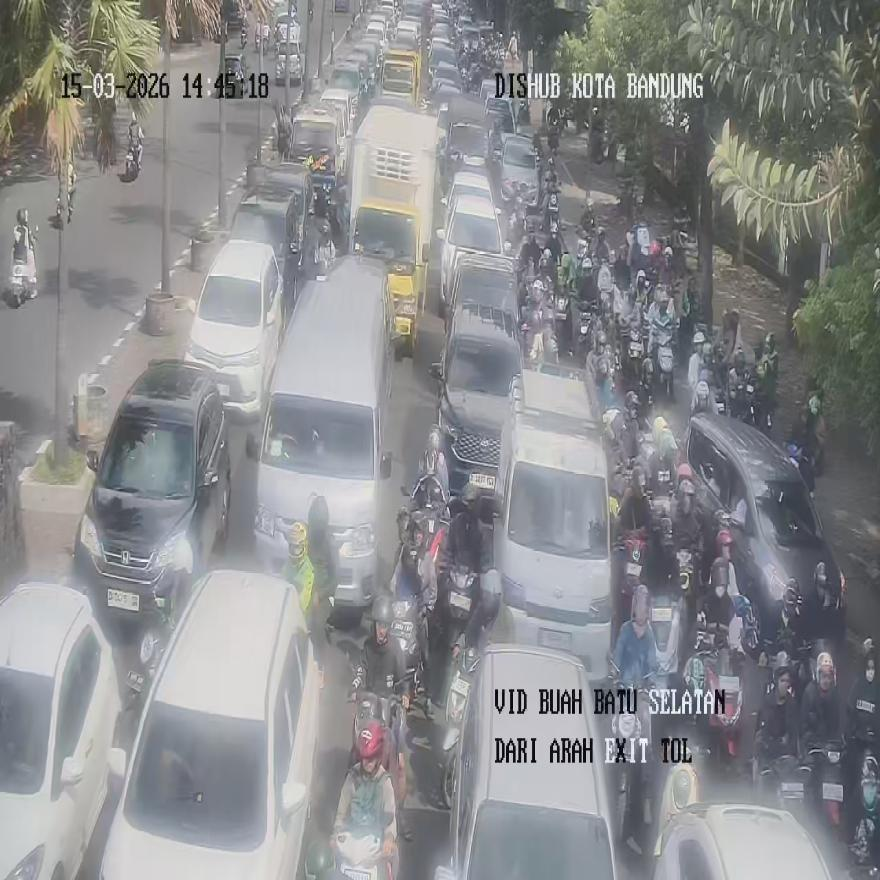Bis: (247, 257, 397, 616), (492, 364, 613, 678)
Mobil: (100, 572, 319, 879), (434, 643, 616, 879), (74, 359, 231, 629), (0, 582, 121, 879), (430, 299, 522, 495), (185, 240, 282, 418)
Motor: (684, 624, 743, 765), (122, 588, 173, 733), (440, 646, 480, 809), (612, 681, 651, 842), (654, 756, 700, 857), (399, 474, 449, 563), (707, 652, 743, 761), (350, 691, 400, 766), (651, 580, 684, 689), (756, 756, 811, 821), (808, 740, 844, 837), (390, 599, 424, 695), (336, 829, 393, 879), (442, 566, 477, 647), (618, 531, 647, 620), (9, 227, 38, 305), (649, 465, 675, 534), (732, 593, 759, 656), (786, 440, 815, 492), (845, 728, 876, 772), (625, 310, 644, 381), (676, 548, 698, 609), (656, 326, 674, 400), (575, 309, 596, 366), (315, 217, 334, 279), (9, 262, 36, 305), (627, 223, 651, 271), (528, 327, 558, 365), (670, 218, 689, 277), (753, 383, 774, 436), (126, 115, 142, 182), (740, 372, 759, 427), (728, 371, 747, 422), (638, 359, 654, 419), (507, 195, 525, 243), (596, 255, 614, 303), (555, 288, 570, 342), (617, 176, 637, 216), (547, 214, 564, 254), (66, 159, 76, 223), (126, 140, 141, 182), (580, 200, 596, 238), (548, 192, 560, 233), (845, 865, 879, 879), (255, 22, 270, 53), (711, 387, 727, 414), (548, 120, 561, 152), (240, 24, 247, 50), (56, 195, 62, 223), (308, 0, 314, 21)
